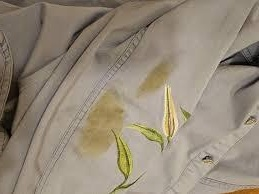earth: (92, 95, 123, 127), (147, 63, 170, 87), (84, 129, 108, 150)
